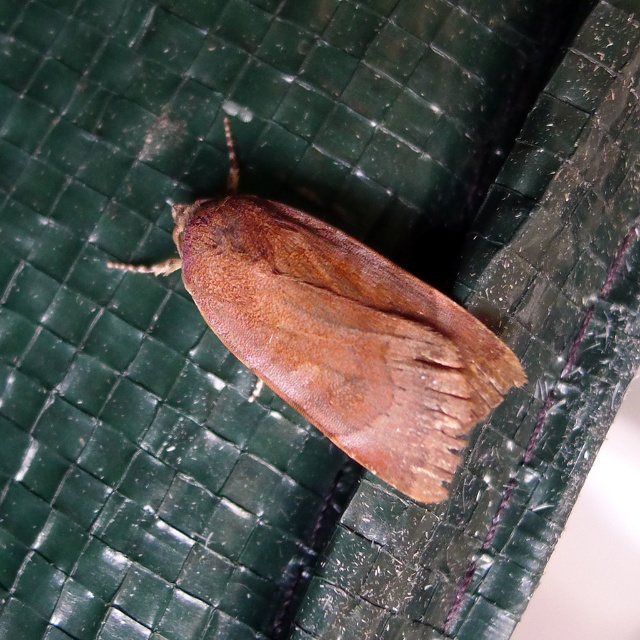Moths and butterflies: (107, 118, 528, 508)
